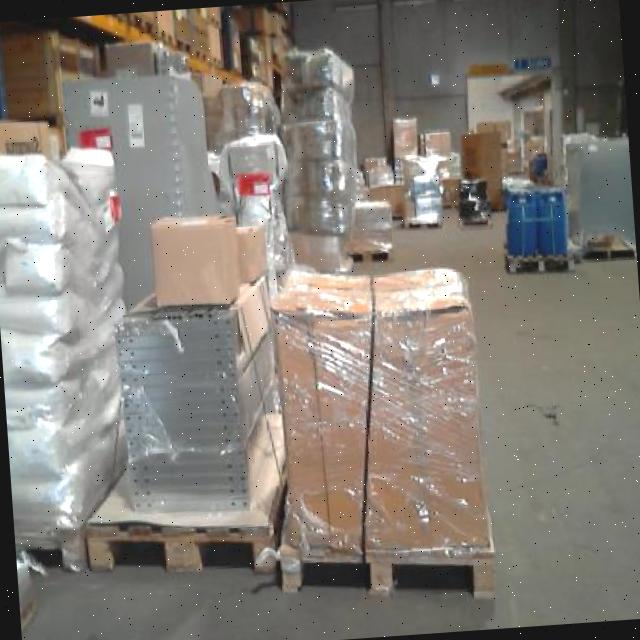pallet: (274, 529, 500, 619), (75, 511, 286, 584), (495, 242, 578, 278), (335, 242, 397, 268), (394, 216, 446, 236)
